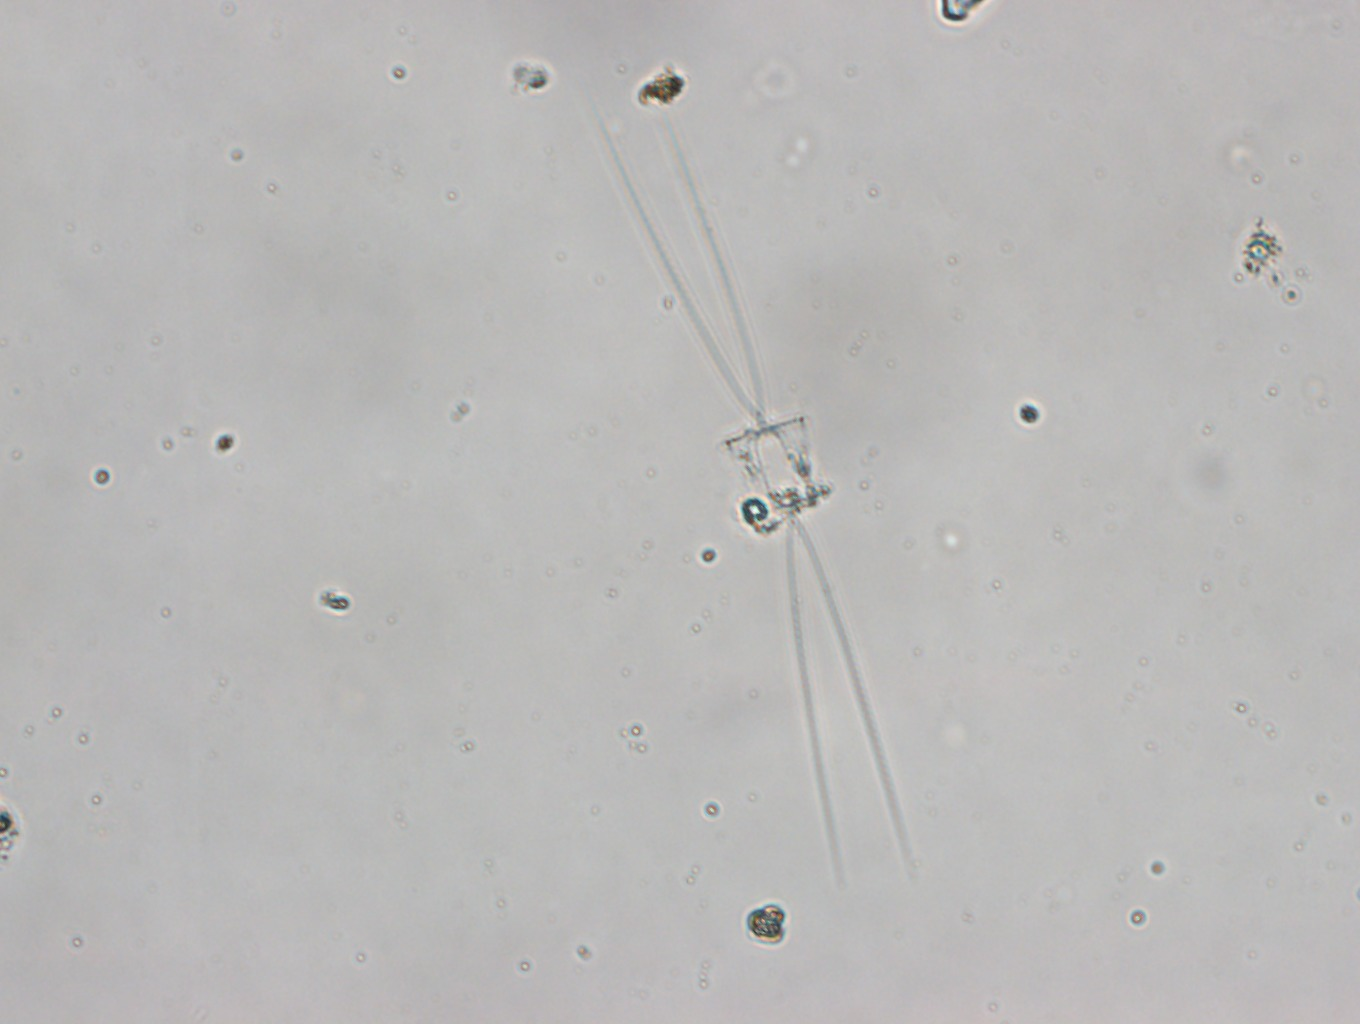chaetoceros: (589, 87, 921, 888)
